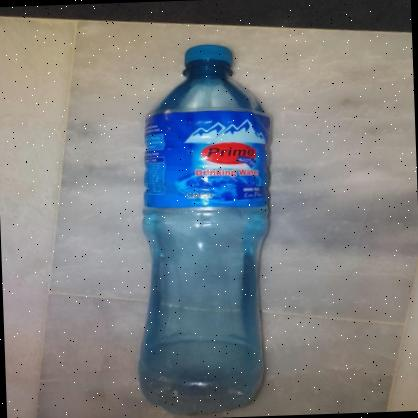bottle: (128, 36, 287, 416)
cap: (178, 41, 240, 75)
label: (140, 100, 272, 219)
